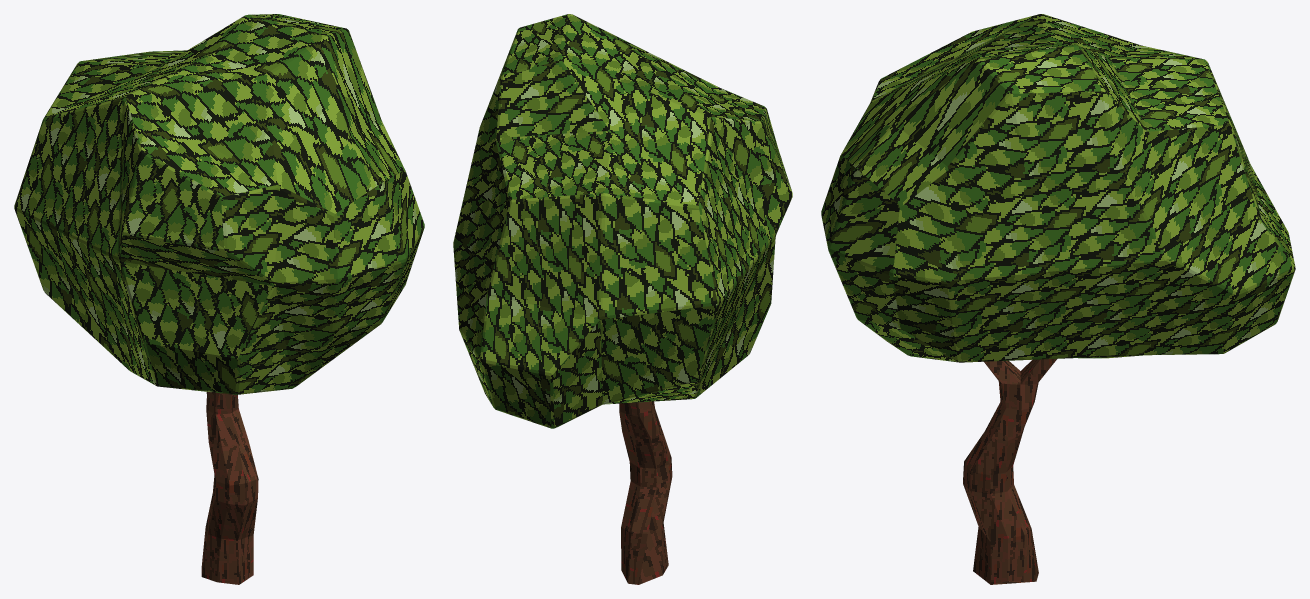
The model's file is TREE2.fbx.
3 views of the same model, side by side, from view 1: azimuth 30°, elevation 25°; view 2: azimuth 150°, elevation 25°; view 3: azimuth 270°, elevation 25° (orthographic). The views are drawn at different scales.
Visible parts, largest first — view 1: Cube, Cylinder; view 2: Cube, Cylinder; view 3: Cube, Cylinder.
Part boxes in pixels (x1=…): Cube: x1=14, y1=14, x2=424, y2=394; Cylinder: x1=201, y1=392, x2=258, y2=584; Cube: x1=453, y1=14, x2=792, y2=428; Cylinder: x1=619, y1=401, x2=672, y2=584; Cube: x1=821, y1=14, x2=1295, y2=362; Cylinder: x1=963, y1=358, x2=1057, y2=584.
Bounding box in the file's own units: 1588 × 2654 × 2017.
